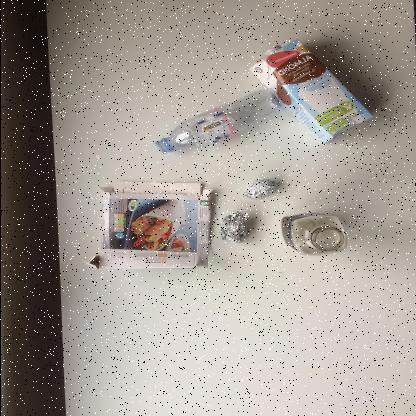cardboard: (248, 39, 372, 145), (82, 181, 213, 270)
metal: (218, 210, 248, 244), (242, 178, 280, 198)
plastic: (153, 89, 285, 154), (280, 212, 348, 256)
